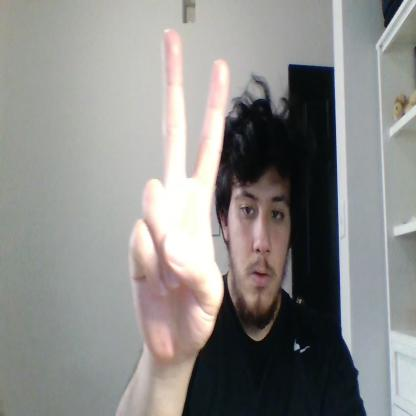V: (130, 29, 230, 362)
